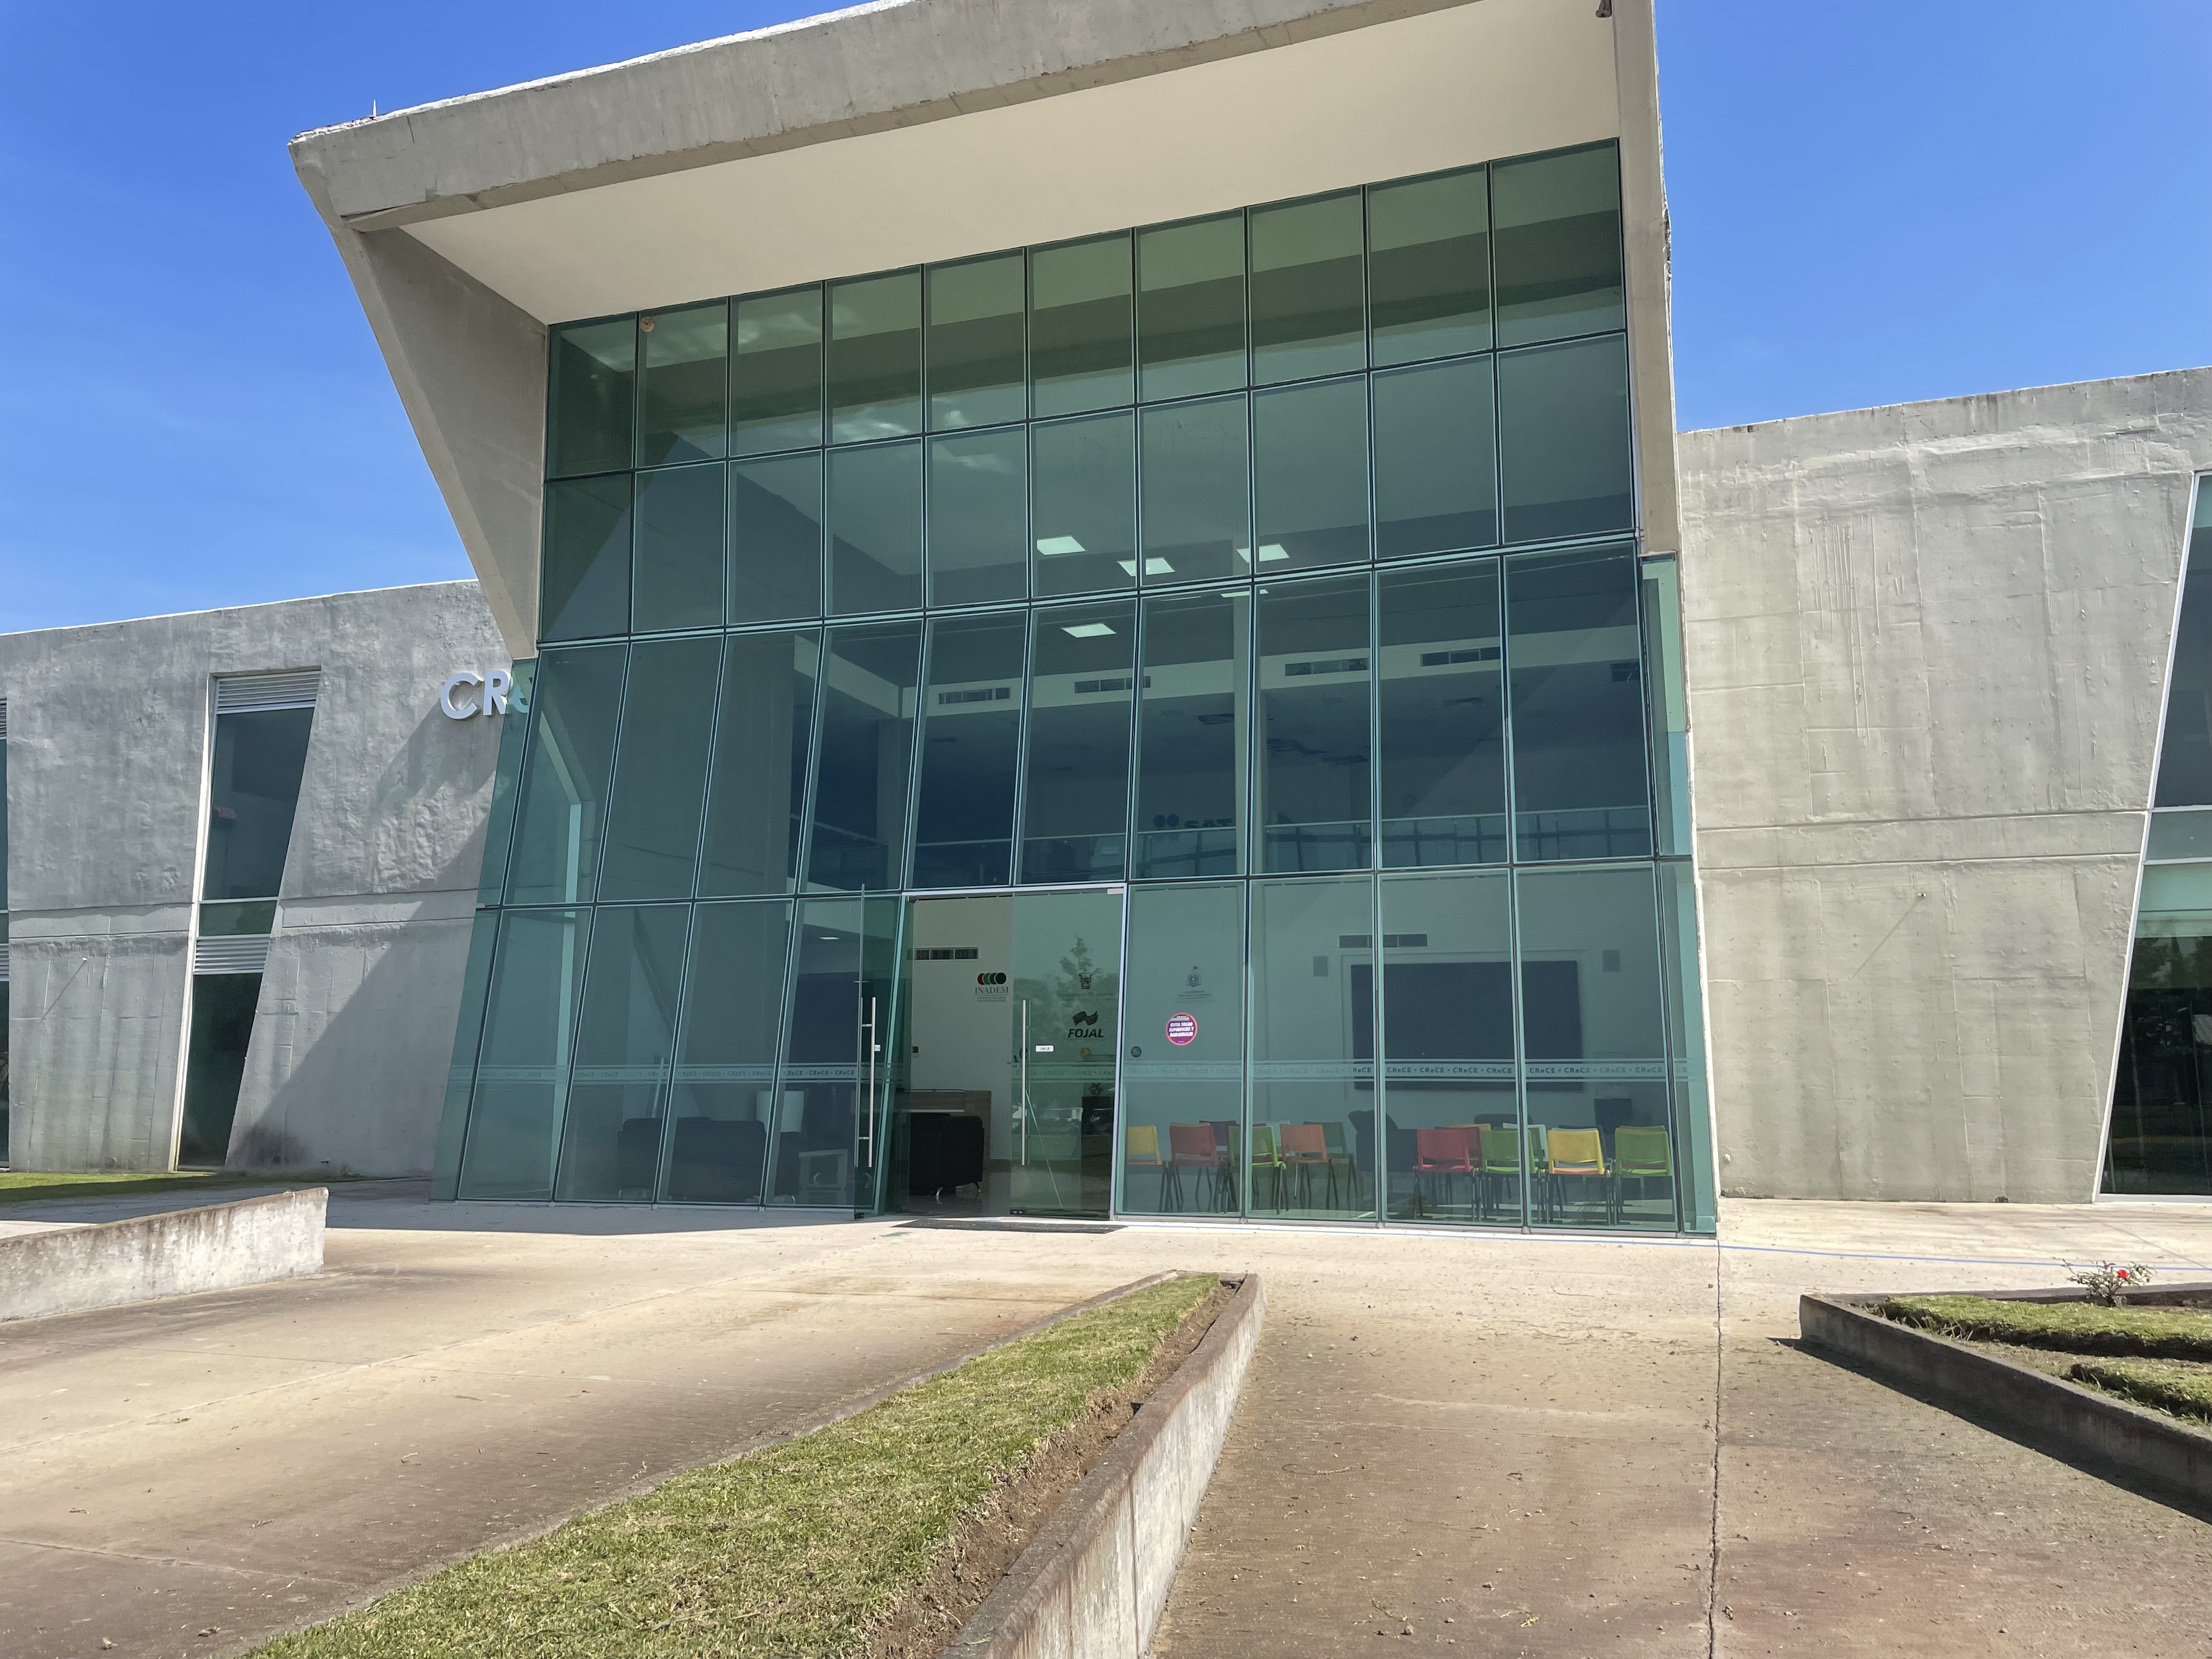crece: (38, 0, 2207, 1281)
